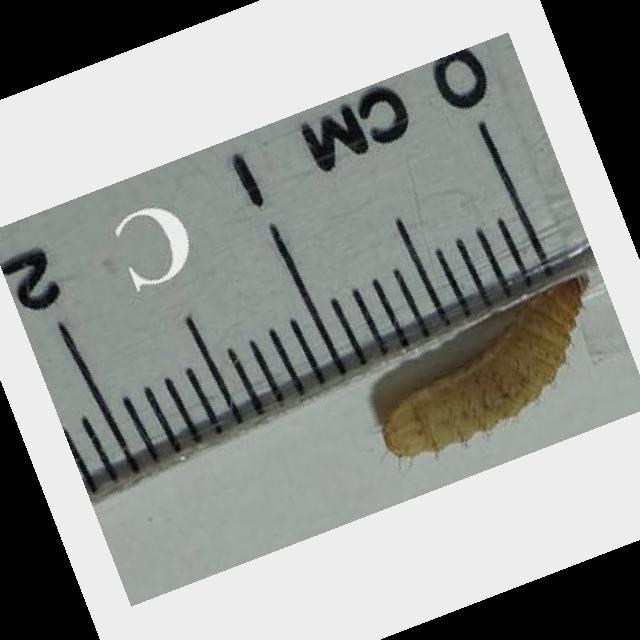Maggot: (385, 270, 597, 455)
